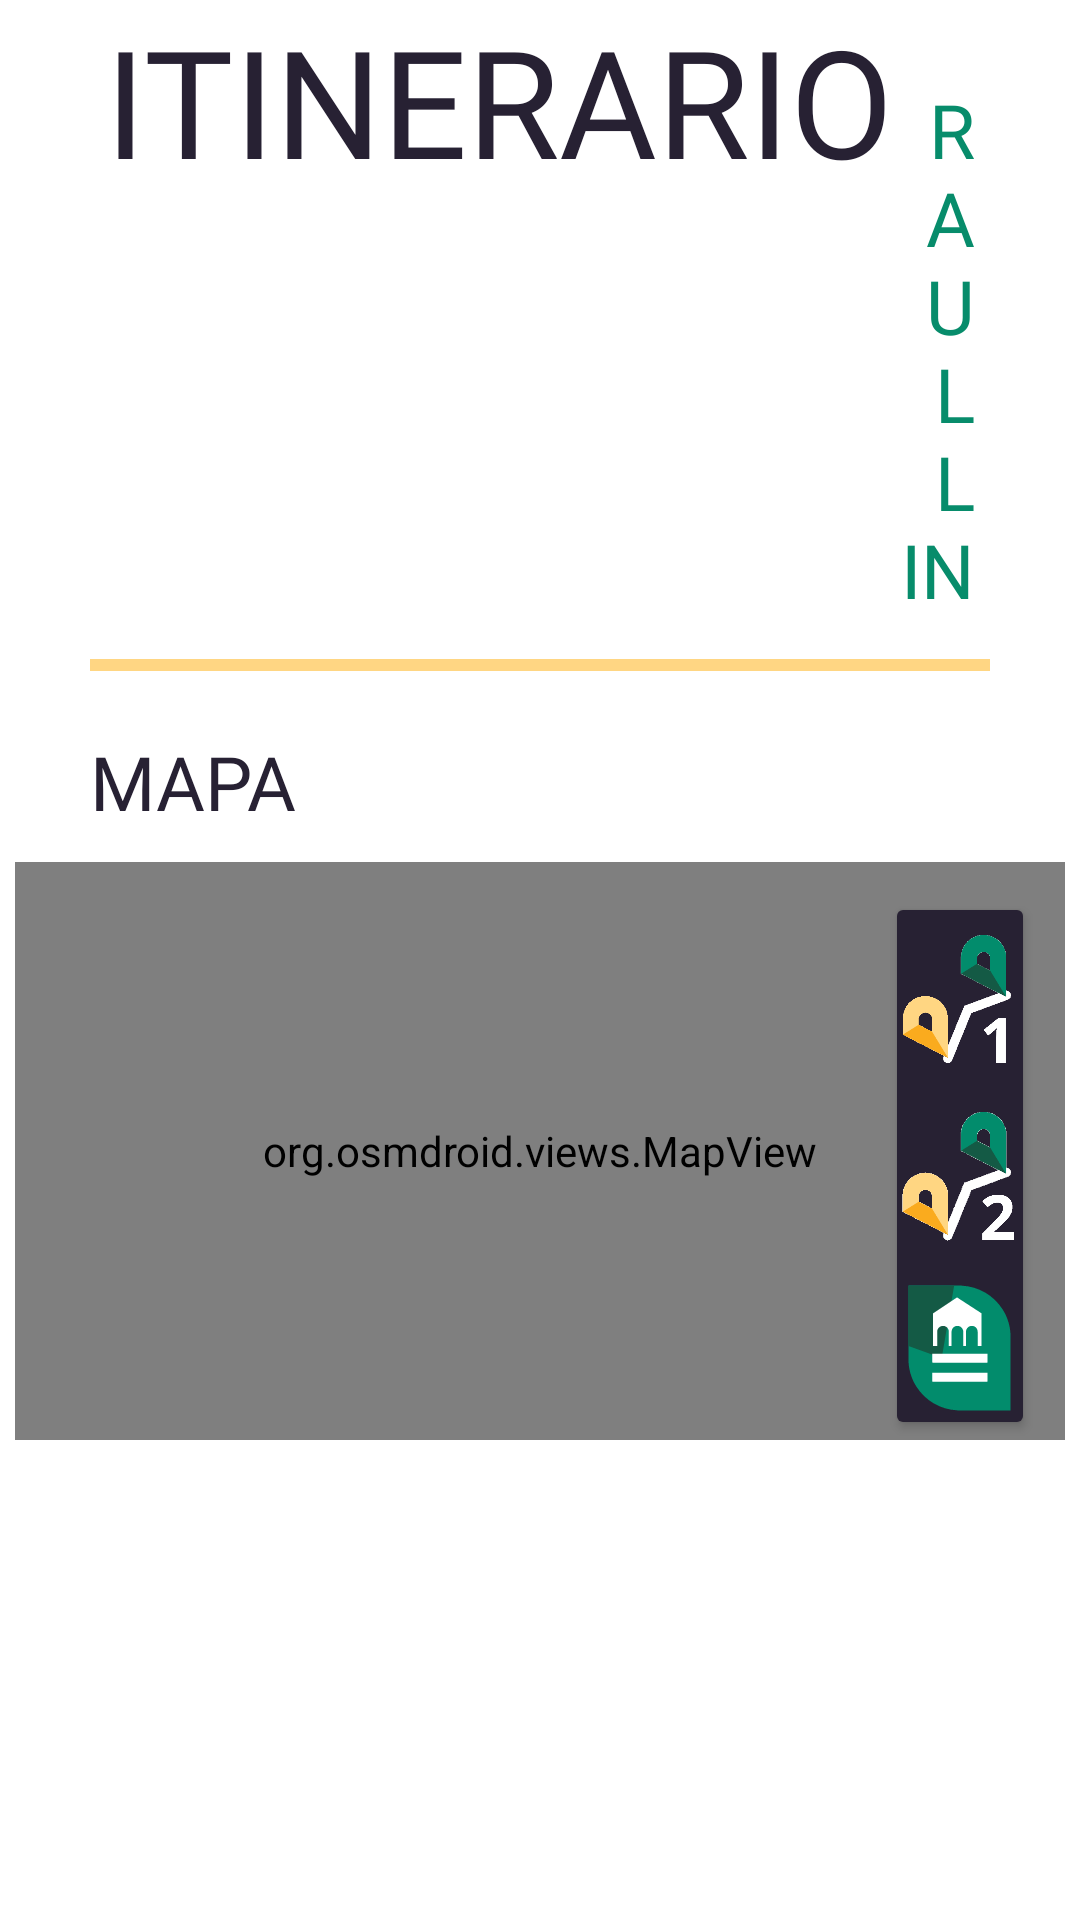

Icon click points for this 1080*1920 phone screenshot, format [x,y]:
itinerario: [966,1003], [966,1180]
mapa historia: [960,1340]
